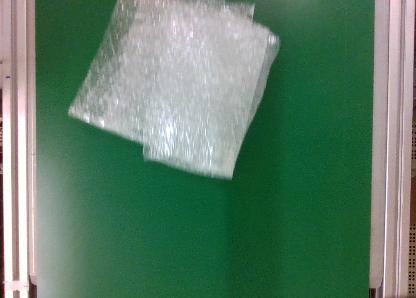Others: (63, 2, 281, 182)
